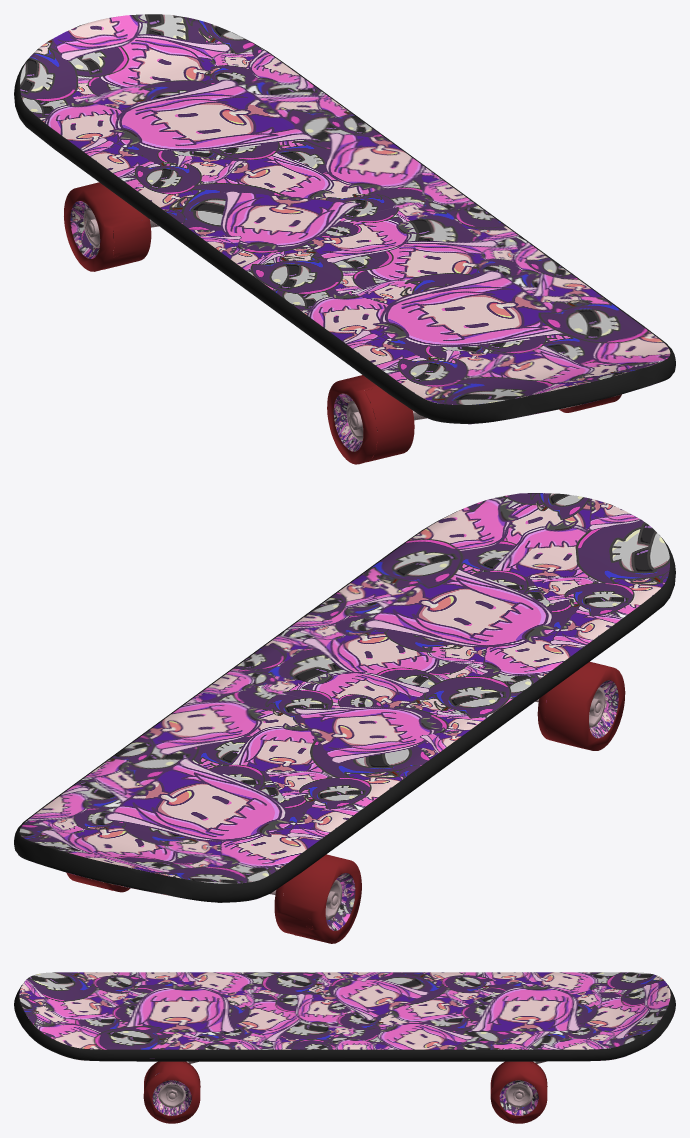
File: skateboard_pro.glb
3 renders of one model, top to bottom at view 1: azimuth 30°, elevation 25°; view 2: azimuth 150°, elevation 25°; view 3: azimuth 270°, elevation 25°, orthographic. The views are drawn at different scales.
Parts seen in each view (by area): view 1: Object_10; view 2: Object_10; view 3: Object_10.
Boxes of the visible parts, <box> form: Object_10: <box>14,14,675,464</box>; Object_10: <box>14,493,675,943</box>; Object_10: <box>14,972,675,1123</box>.
Size of the model in its own units: 0.2498 by 0.1247 by 0.85.
5 materials, 1 textured.
